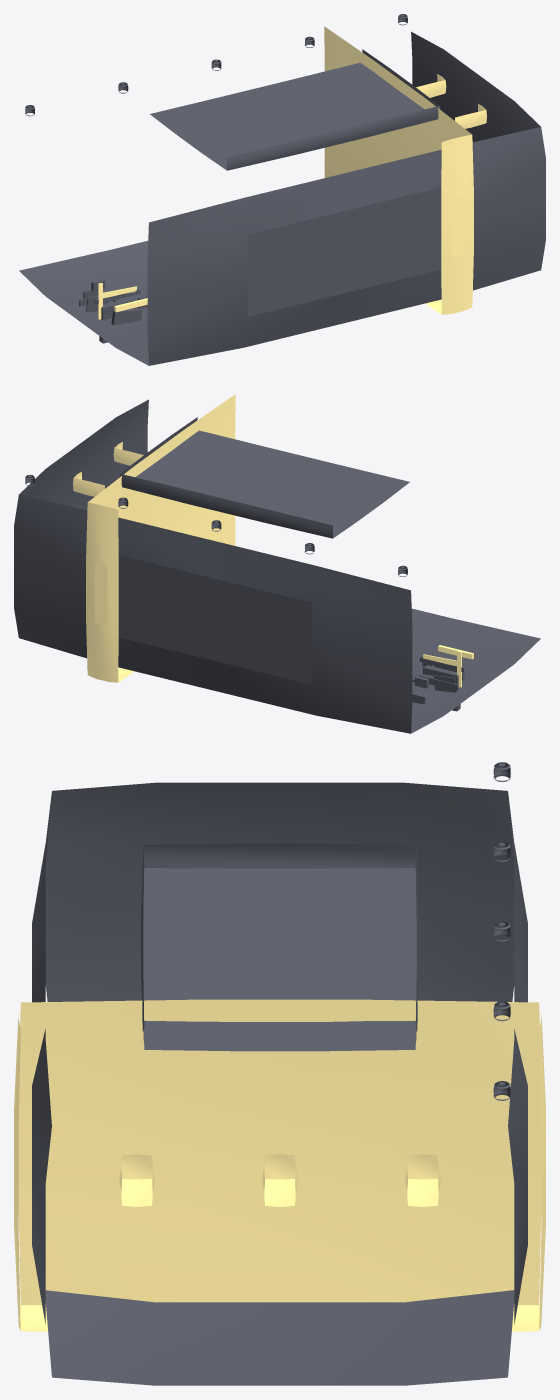
The model's file is pod_utility.glb.
3 renders of one model, top to bottom at view 1: azimuth 30°, elevation 25°; view 2: azimuth 150°, elevation 25°; view 3: azimuth 270°, elevation 25°, orthographic. The views are drawn at different scales.
Parts seen in each view (by area): view 1: Utility_Shell, pod_utility_Material_Mechanical_Merged, Utility_Band, pod_utility_Material_Accent_Merged; view 2: Utility_Shell, pod_utility_Material_Mechanical_Merged, Utility_Band, pod_utility_Material_Accent_Merged; view 3: Utility_Band, Utility_Shell, pod_utility_Material_Mechanical_Merged, pod_utility_Material_Accent_Merged.
Part boxes in pixels (x1,y1,x2,y2): Utility_Shell: [19, 31, 545, 365]; pod_utility_Material_Mechanical_Merged: [25, 14, 440, 170]; Utility_Band: [324, 26, 473, 314]; pod_utility_Material_Accent_Merged: [416, 74, 486, 128]; Utility_Shell: [14, 399, 540, 733]; pod_utility_Material_Mechanical_Merged: [25, 417, 409, 576]; Utility_Band: [86, 394, 235, 682]; pod_utility_Material_Accent_Merged: [73, 442, 143, 496]; Utility_Band: [14, 999, 545, 1331]; Utility_Shell: [32, 782, 527, 1385]; pod_utility_Material_Mechanical_Merged: [141, 762, 510, 1100]; pod_utility_Material_Accent_Merged: [119, 1154, 440, 1206].
Bounding box in the file's own units: 4.2 × 1.88 × 2.68.
